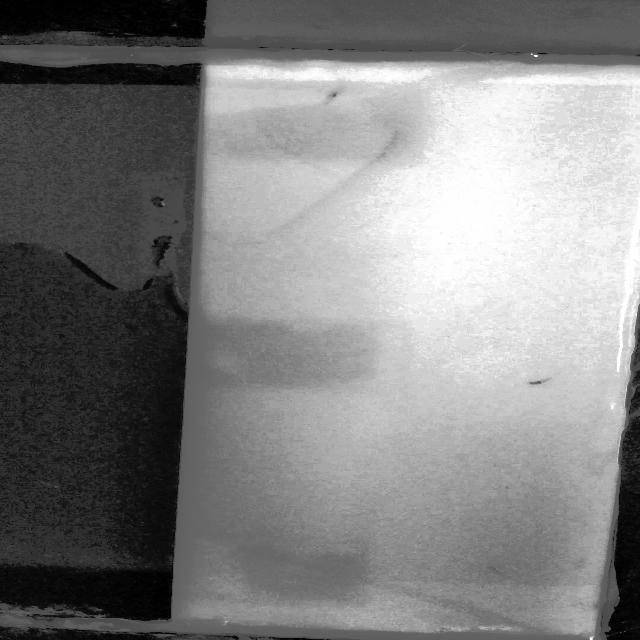shrimp: (318, 88, 352, 105), (520, 372, 551, 390), (477, 561, 512, 575)
